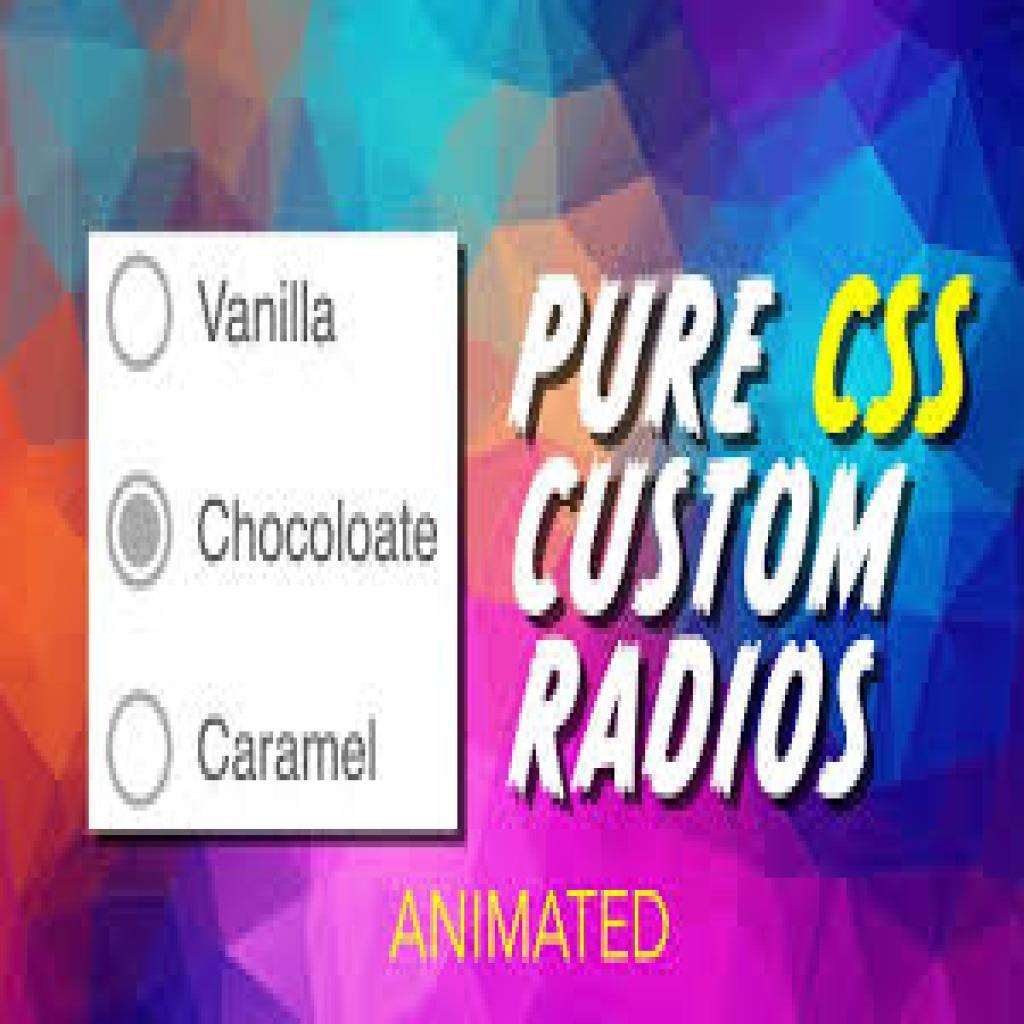label: (196, 496, 445, 570), (191, 706, 387, 789), (187, 269, 344, 349)
radio: (109, 253, 179, 376), (104, 693, 176, 809), (107, 470, 174, 592)
